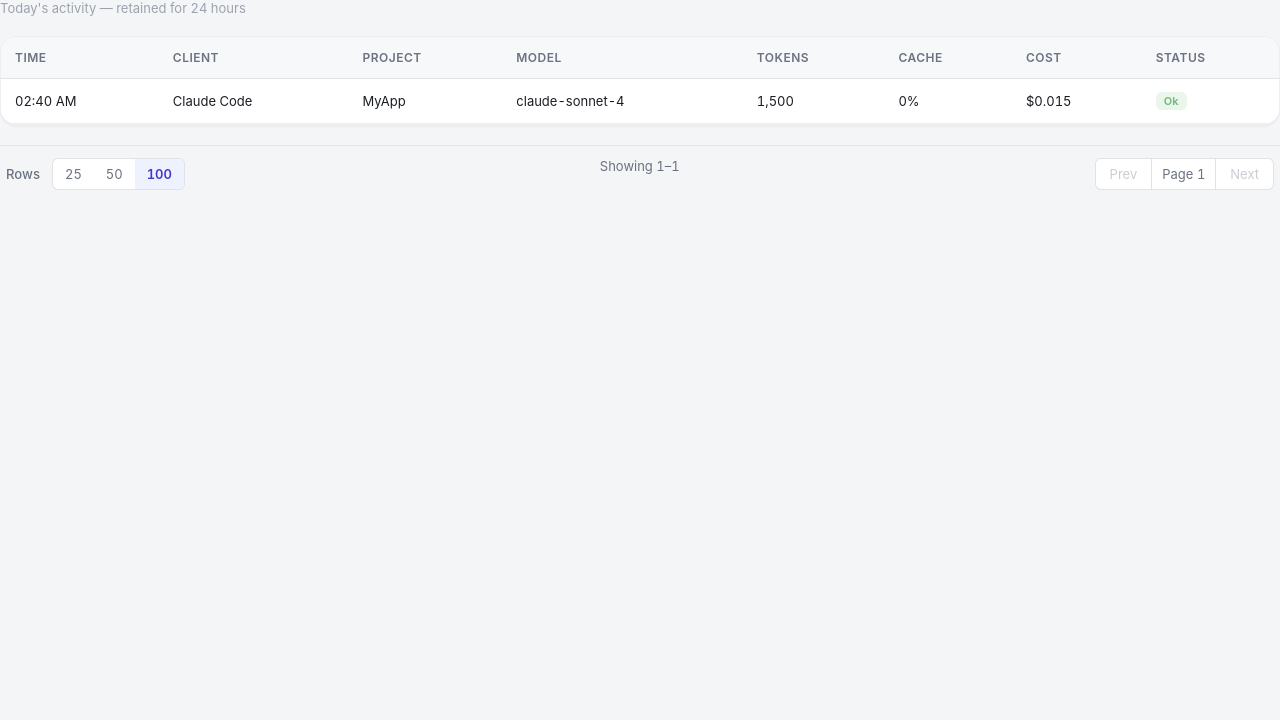
Test case: ActivityPage › renders Cache Hit Rate in detail drawer from the DTO field
Click the text "Claude Code" at (254, 101), box x1=159 y1=78 x2=348 y2=124
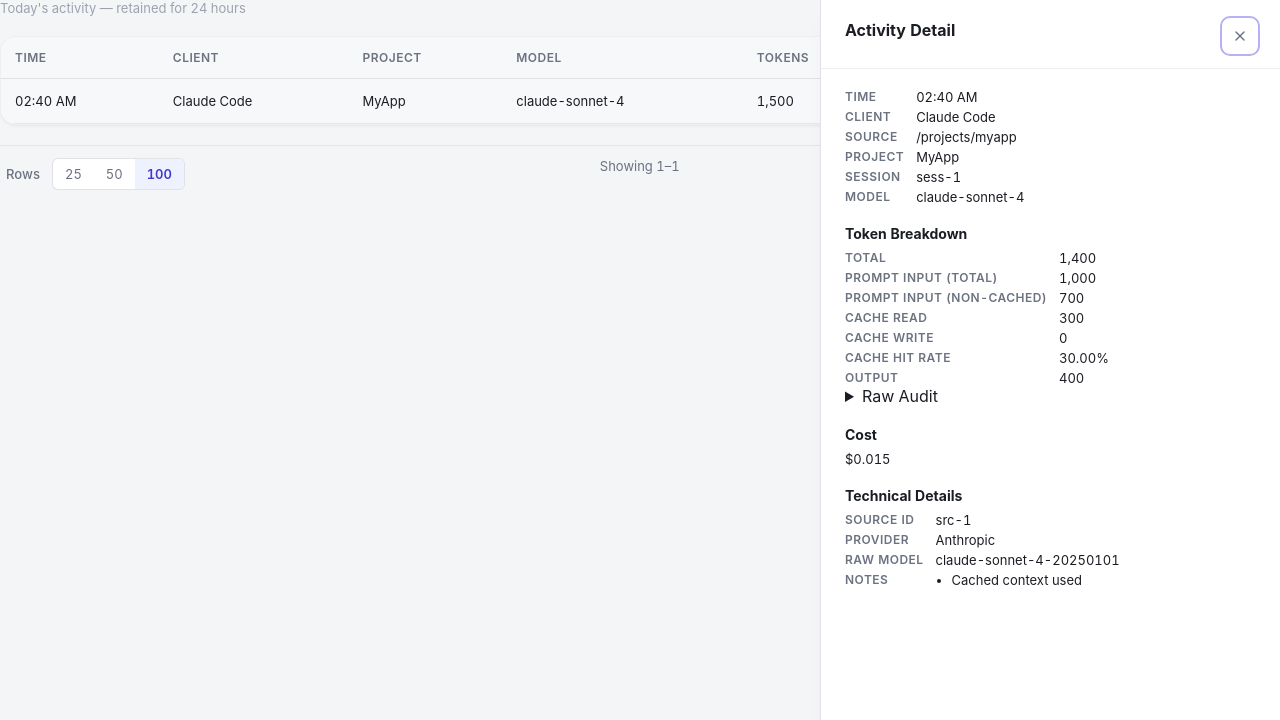
expect the heading "Activity Detail" is shown: met, box x1=845 y1=20 x2=955 y2=40
expect the text "Cache Hit Rate" is shown: met, box x1=845 y1=350 x2=951 y2=365
expect the text "30.00%" is shown: met, box x1=1059 y1=350 x2=1109 y2=366
